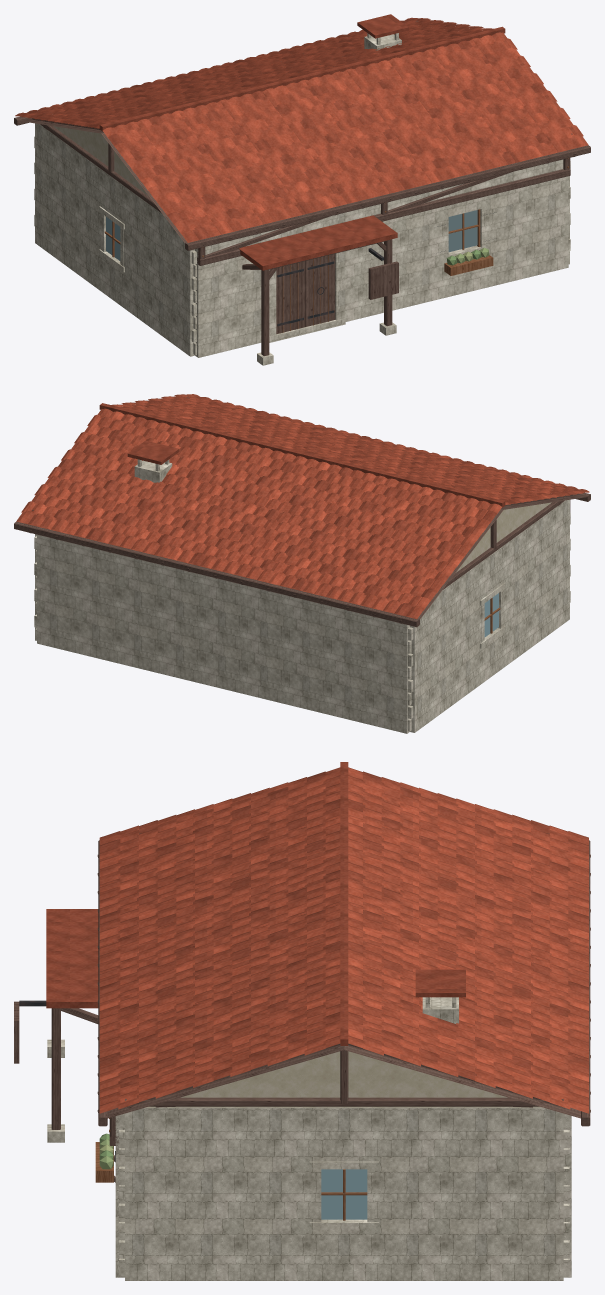
File: B05_taller.glb
3 renders of one model, top to bottom at view 1: azimuth 30°, elevation 25°; view 2: azimuth 150°, elevation 25°; view 3: azimuth 270°, elevation 25°, orthographic. The views are drawn at different scales.
Visible parts, largest first — view 1: AUR034_B05_clay_tiles, AUR034_B05_lower_masonry, AUR034_B05_porch_clay_roof, AUR034_B05_fascia-1, AUR034_B05_ridge, AUR034_B05_sill, AUR034_B05_entry_leaf1, AUR034_B05_entry_leaf0, AUR034_B05_gable-1, AUR034_B05_hanging_sign, AUR034_B05_window0_glazing, AUR034_B05_gable_tie-1 (+11 smaller); view 2: AUR034_B05_clay_tiles, AUR034_B05_lower_masonry, AUR034_B05_fascia1, AUR034_B05_ridge, AUR034_B05_gable-1, AUR034_B05_gable_tie-1, AUR034_B05_dressed_corner_stones, AUR034_B05_roof_sheathing, AUR034_B05_cowl, AUR034_B05_chimney, AUR034_B05_side_window-1_0_glass; view 3: AUR034_B05_clay_tiles, AUR034_B05_lower_masonry, AUR034_B05_gable1, AUR034_B05_porch_clay_roof, AUR034_B05_gable_tie1, AUR034_B05_roof_sheathing, AUR034_B05_ridge, AUR034_B05_side_window1_0_glass, AUR034_B05_dressed_corner_stones, AUR034_B05_cowl, AUR034_B05_porch_post1, AUR034_B05_chimney (+2 smaller).
Part boxes in pixels (bbox=[...]): AUR034_B05_clay_tiles: bbox=[15, 17, 588, 242]; AUR034_B05_lower_masonry: bbox=[35, 123, 569, 357]; AUR034_B05_porch_clay_roof: bbox=[239, 215, 397, 270]; AUR034_B05_fascia-1: bbox=[185, 145, 590, 250]; AUR034_B05_ridge: bbox=[99, 26, 505, 131]; AUR034_B05_sill: bbox=[197, 169, 570, 265]; AUR034_B05_entry_leaf1: bbox=[305, 254, 335, 326]; AUR034_B05_entry_leaf0: bbox=[276, 261, 305, 333]; AUR034_B05_gable-1: bbox=[53, 126, 148, 195]; AUR034_B05_hanging_sign: bbox=[368, 261, 398, 299]; AUR034_B05_window0_glazing: bbox=[448, 210, 477, 252]; AUR034_B05_gable_tie-1: bbox=[32, 118, 161, 213]; AUR034_B05_clay_tiles: bbox=[16, 394, 589, 618]; AUR034_B05_lower_masonry: bbox=[35, 499, 569, 733]; AUR034_B05_fascia1: bbox=[14, 521, 419, 627]; AUR034_B05_ridge: bbox=[99, 403, 505, 507]; AUR034_B05_gable-1: bbox=[456, 502, 551, 572]; AUR034_B05_gable_tie-1: bbox=[443, 494, 572, 589]; AUR034_B05_dressed_corner_stones: bbox=[34, 512, 570, 731]; AUR034_B05_roof_sheathing: bbox=[183, 411, 586, 619]; AUR034_B05_cowl: bbox=[127, 440, 179, 464]; AUR034_B05_chimney: bbox=[134, 460, 172, 482]; AUR034_B05_side_window-1_0_glass: bbox=[484, 593, 498, 637]; AUR034_B05_clay_tiles: bbox=[99, 767, 588, 1113]; AUR034_B05_lower_masonry: bbox=[115, 1107, 571, 1280]; AUR034_B05_gable1: bbox=[146, 1051, 542, 1107]; AUR034_B05_porch_clay_roof: bbox=[46, 909, 98, 1008]; AUR034_B05_gable_tie1: bbox=[125, 1097, 563, 1106]; AUR034_B05_roof_sheathing: bbox=[107, 1045, 580, 1118]; AUR034_B05_ridge: bbox=[340, 762, 348, 1045]; AUR034_B05_side_window1_0_glass: bbox=[321, 1169, 367, 1219]; AUR034_B05_dressed_corner_stones: bbox=[119, 1130, 569, 1275]; AUR034_B05_cowl: bbox=[415, 969, 465, 997]; AUR034_B05_porch_post1: bbox=[51, 1008, 60, 1129]; AUR034_B05_chimney: bbox=[422, 997, 458, 1023].
Bounding box in the file's own units: 11.96 × 5.05 × 10.52.
Materials: 13 (8 with a texture image).
